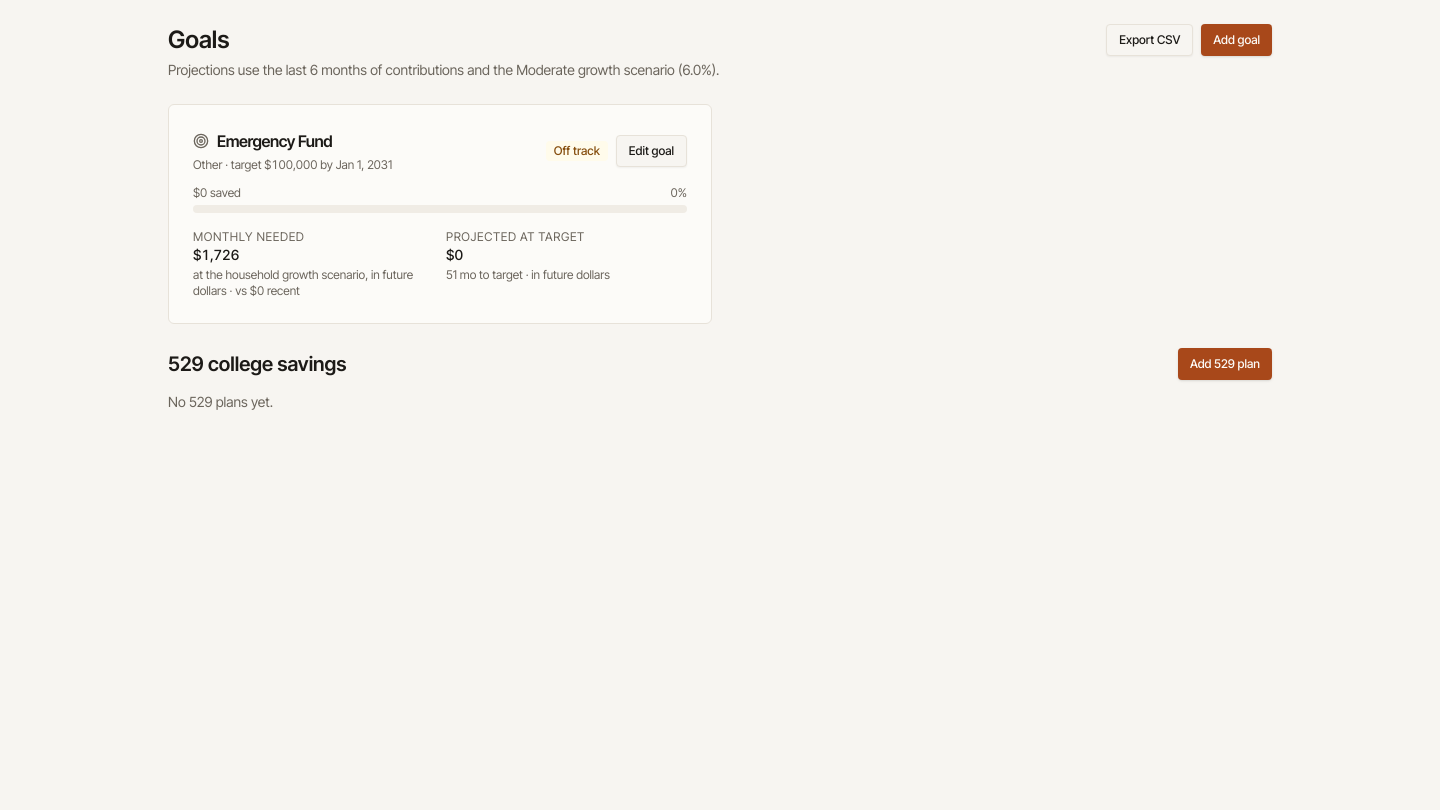
Goals page › no "Manage goals" deflection remains; header "Add goal" opens the create drawer (W14)
The image size is (1440, 810).
Click the button "Add goal" at [1237, 40], box 1201,24 -> 1272,56
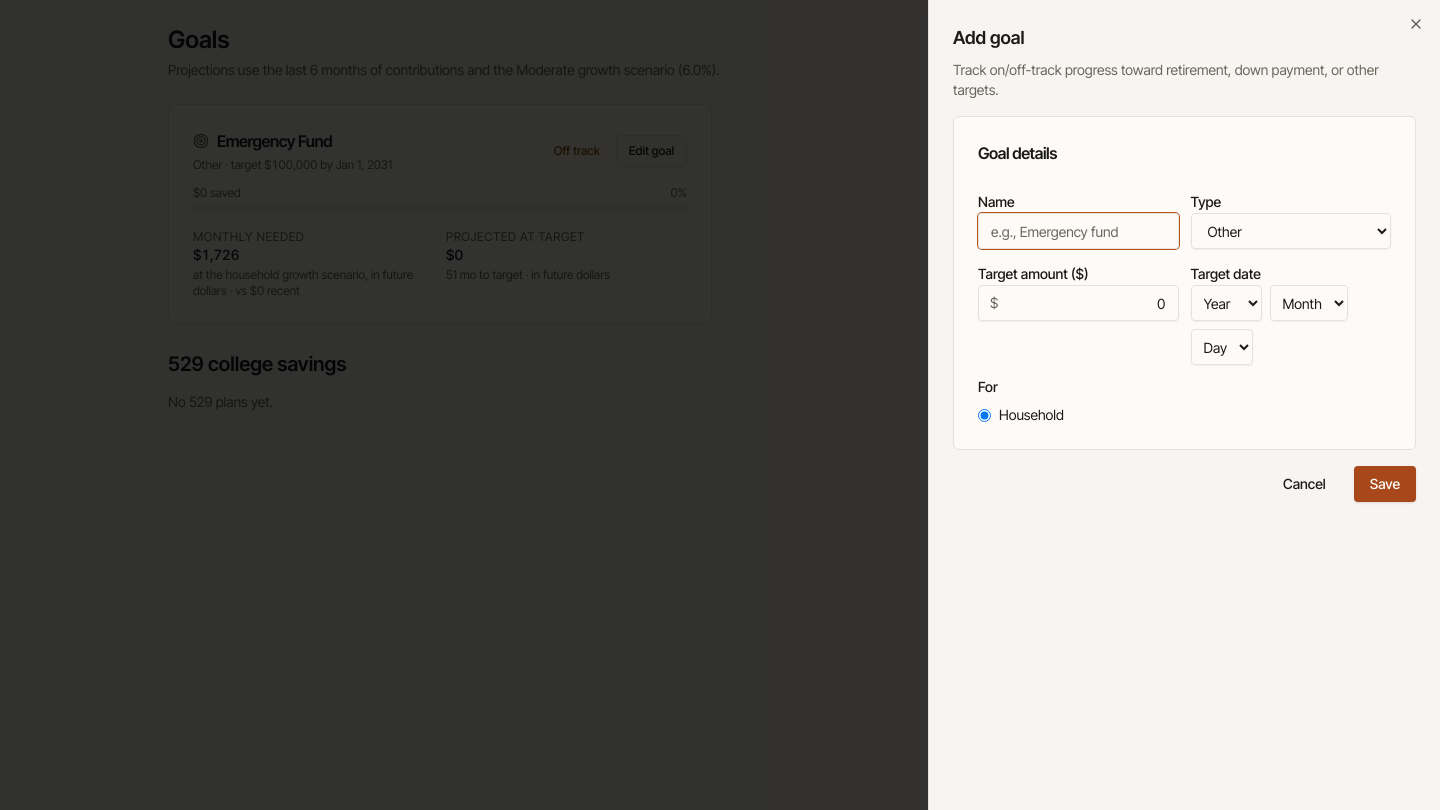
Result: the dialog "Add goal" is shown at 928,0 -> 1439,809
